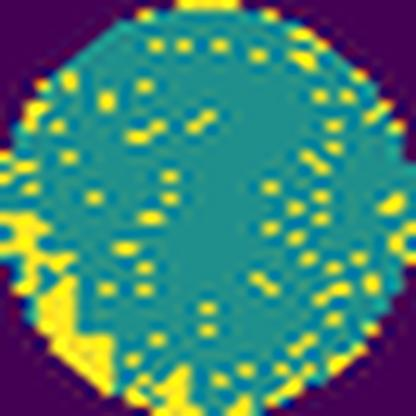Edge-Loc: (39, 276, 119, 396), (0, 205, 76, 299), (123, 361, 208, 416)
